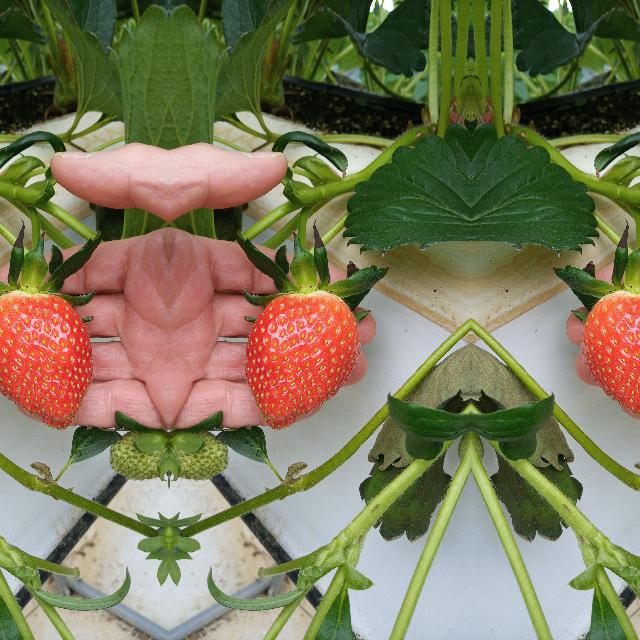Health_100: (242, 290, 362, 430), (0, 289, 93, 430), (579, 289, 640, 430)
